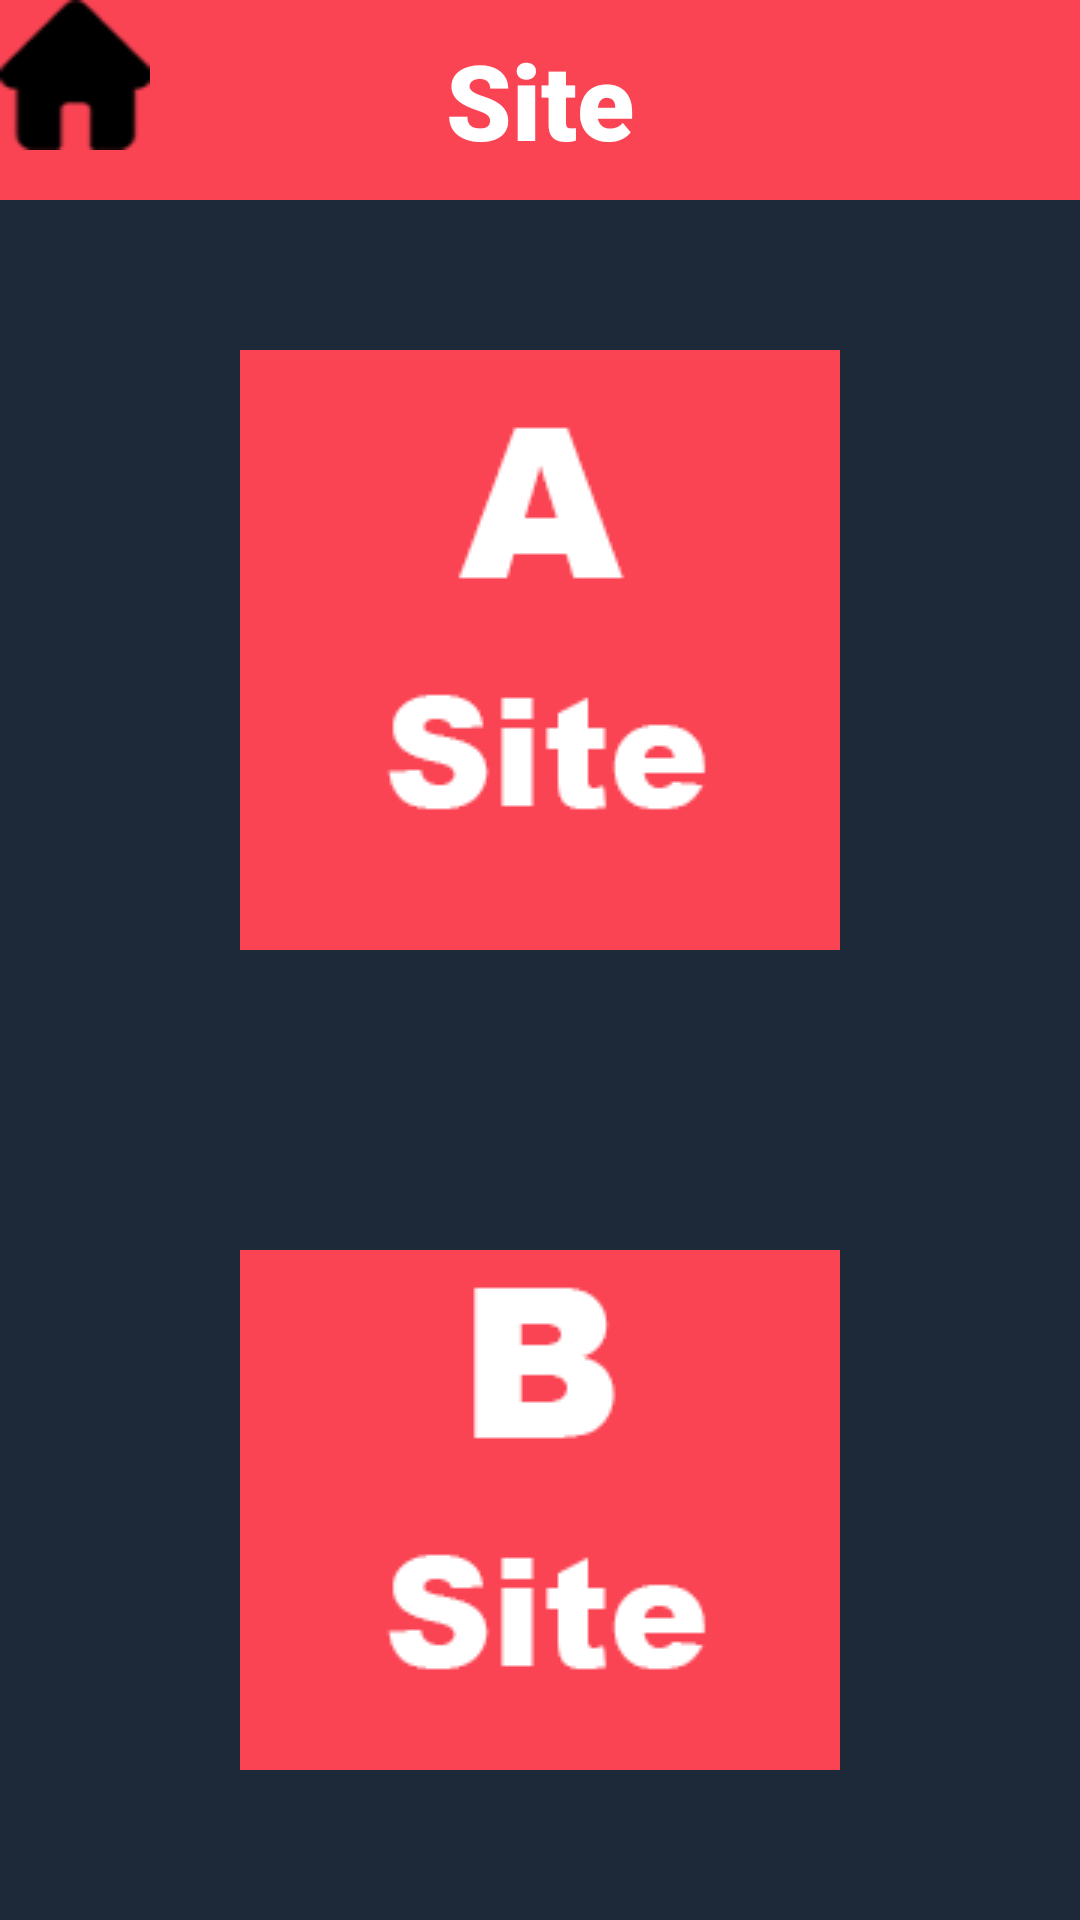

Named icons in this screenshot (1080×1920) and their centers, (x,y):
home: (75,75)
